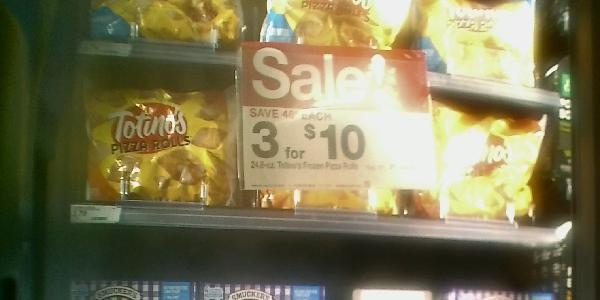icecream: (240, 67, 407, 221), (79, 67, 245, 210), (408, 93, 541, 226)
